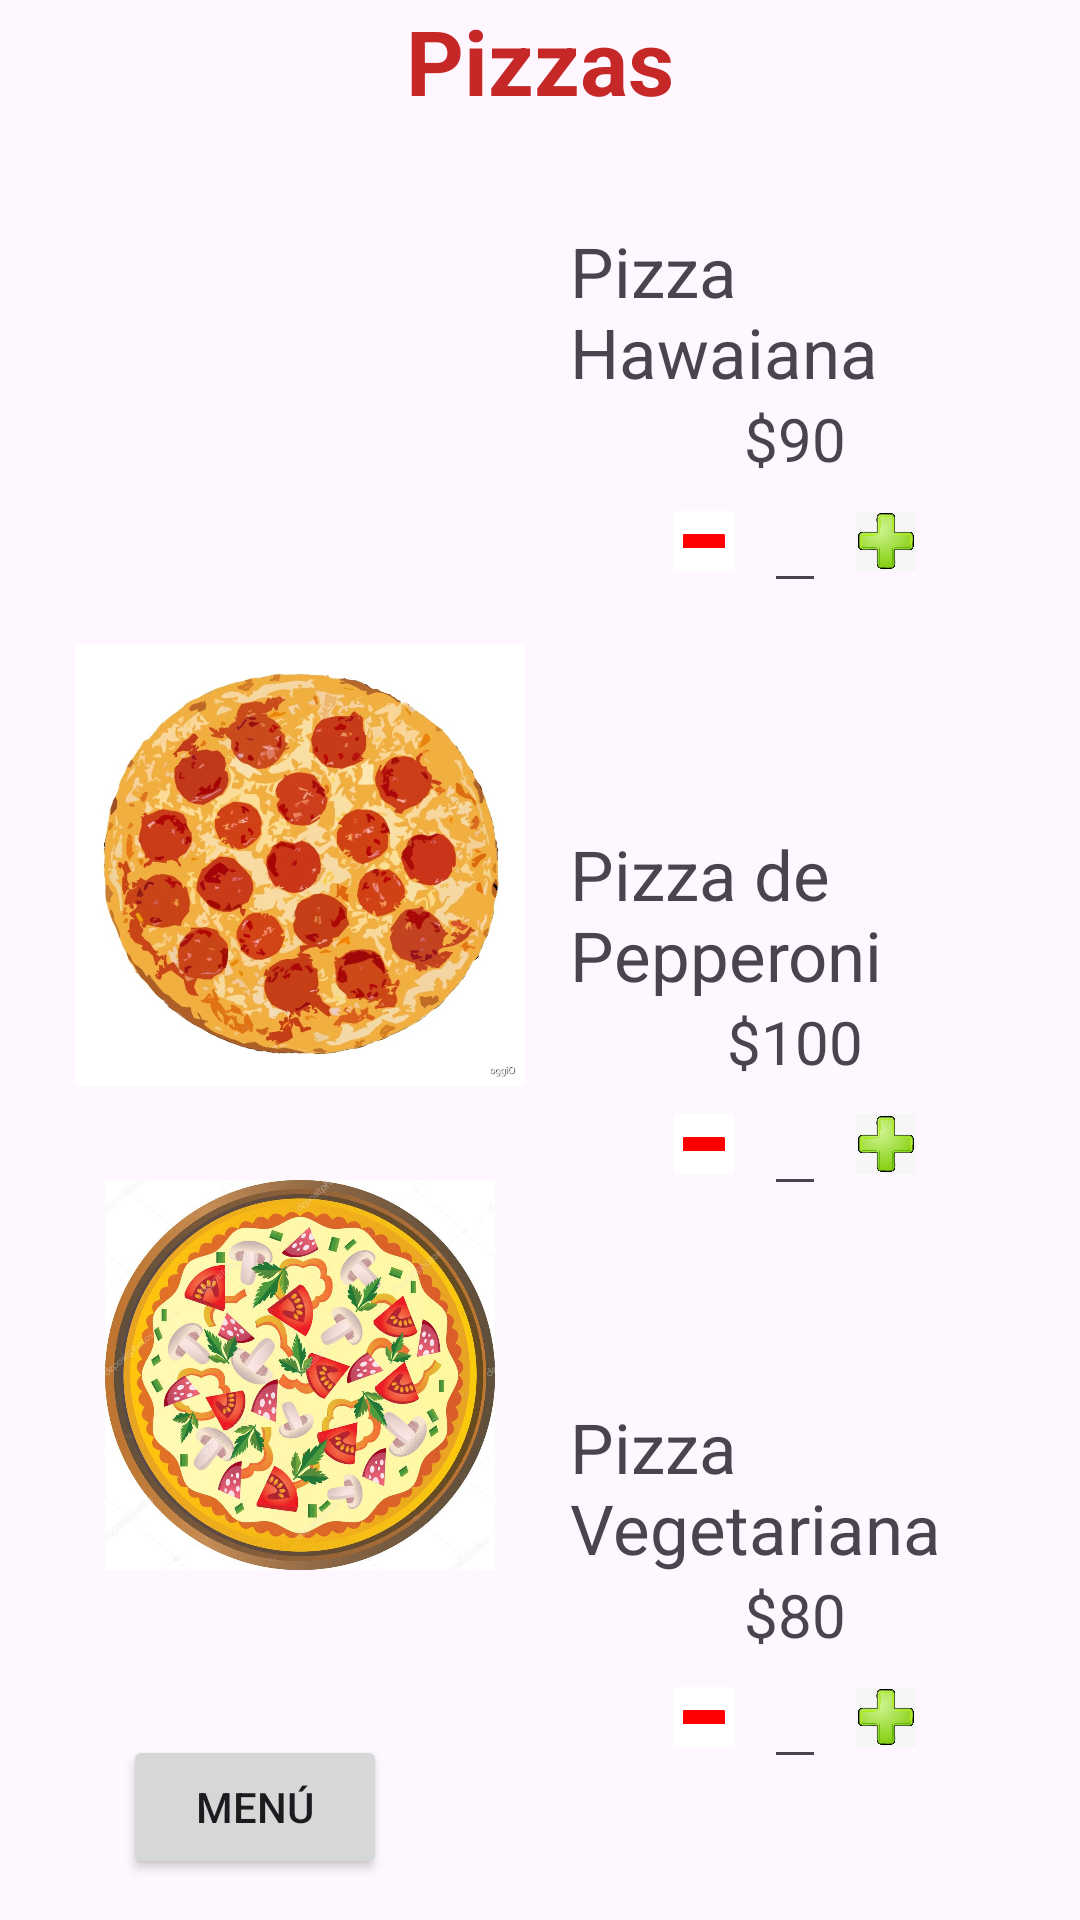

Icons on this 1080px x 1920px Android screen, each with the point to tap as point (x, y):
suma: point (886, 541), point (886, 1144), point (886, 1717)
